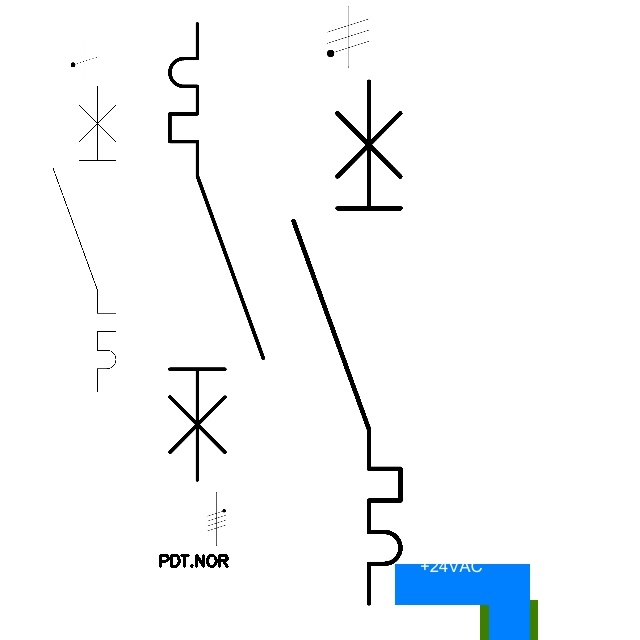interruptor_termomagnetico: (280, 68, 414, 617), (158, 12, 275, 492), (45, 78, 124, 400)
